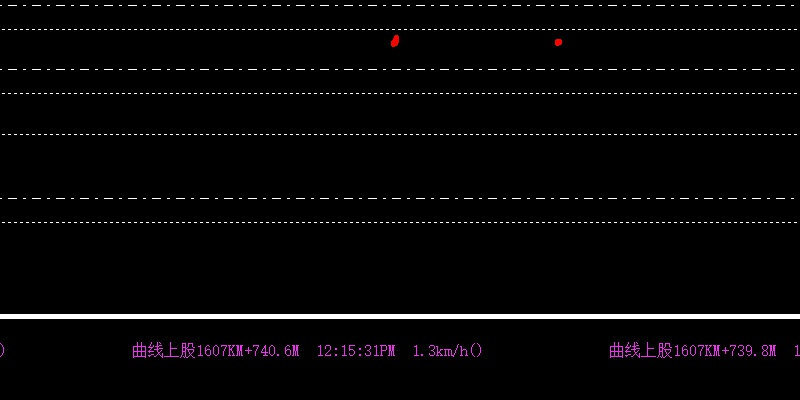face_down: (551, 24, 562, 47), (389, 26, 399, 48)
